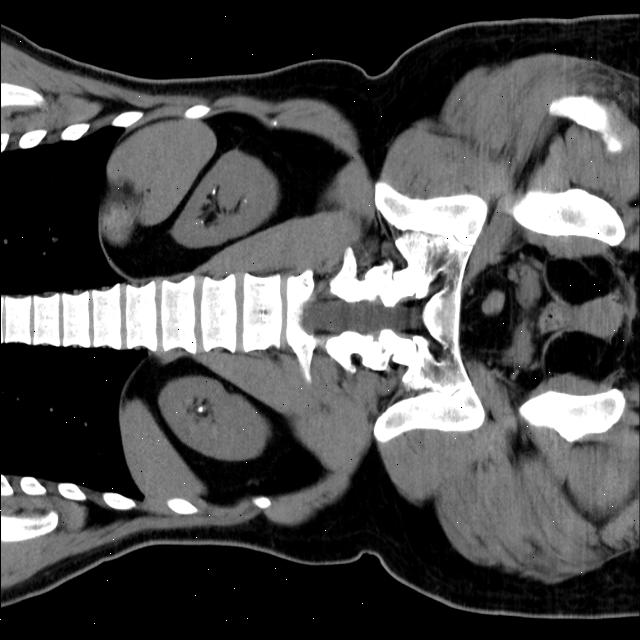kidneystone: (194, 399, 209, 416)
